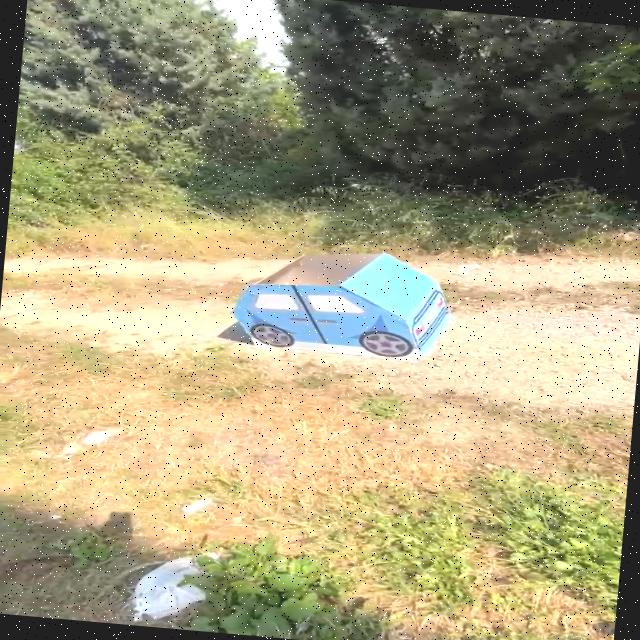blue_car: (211, 229, 478, 379)
